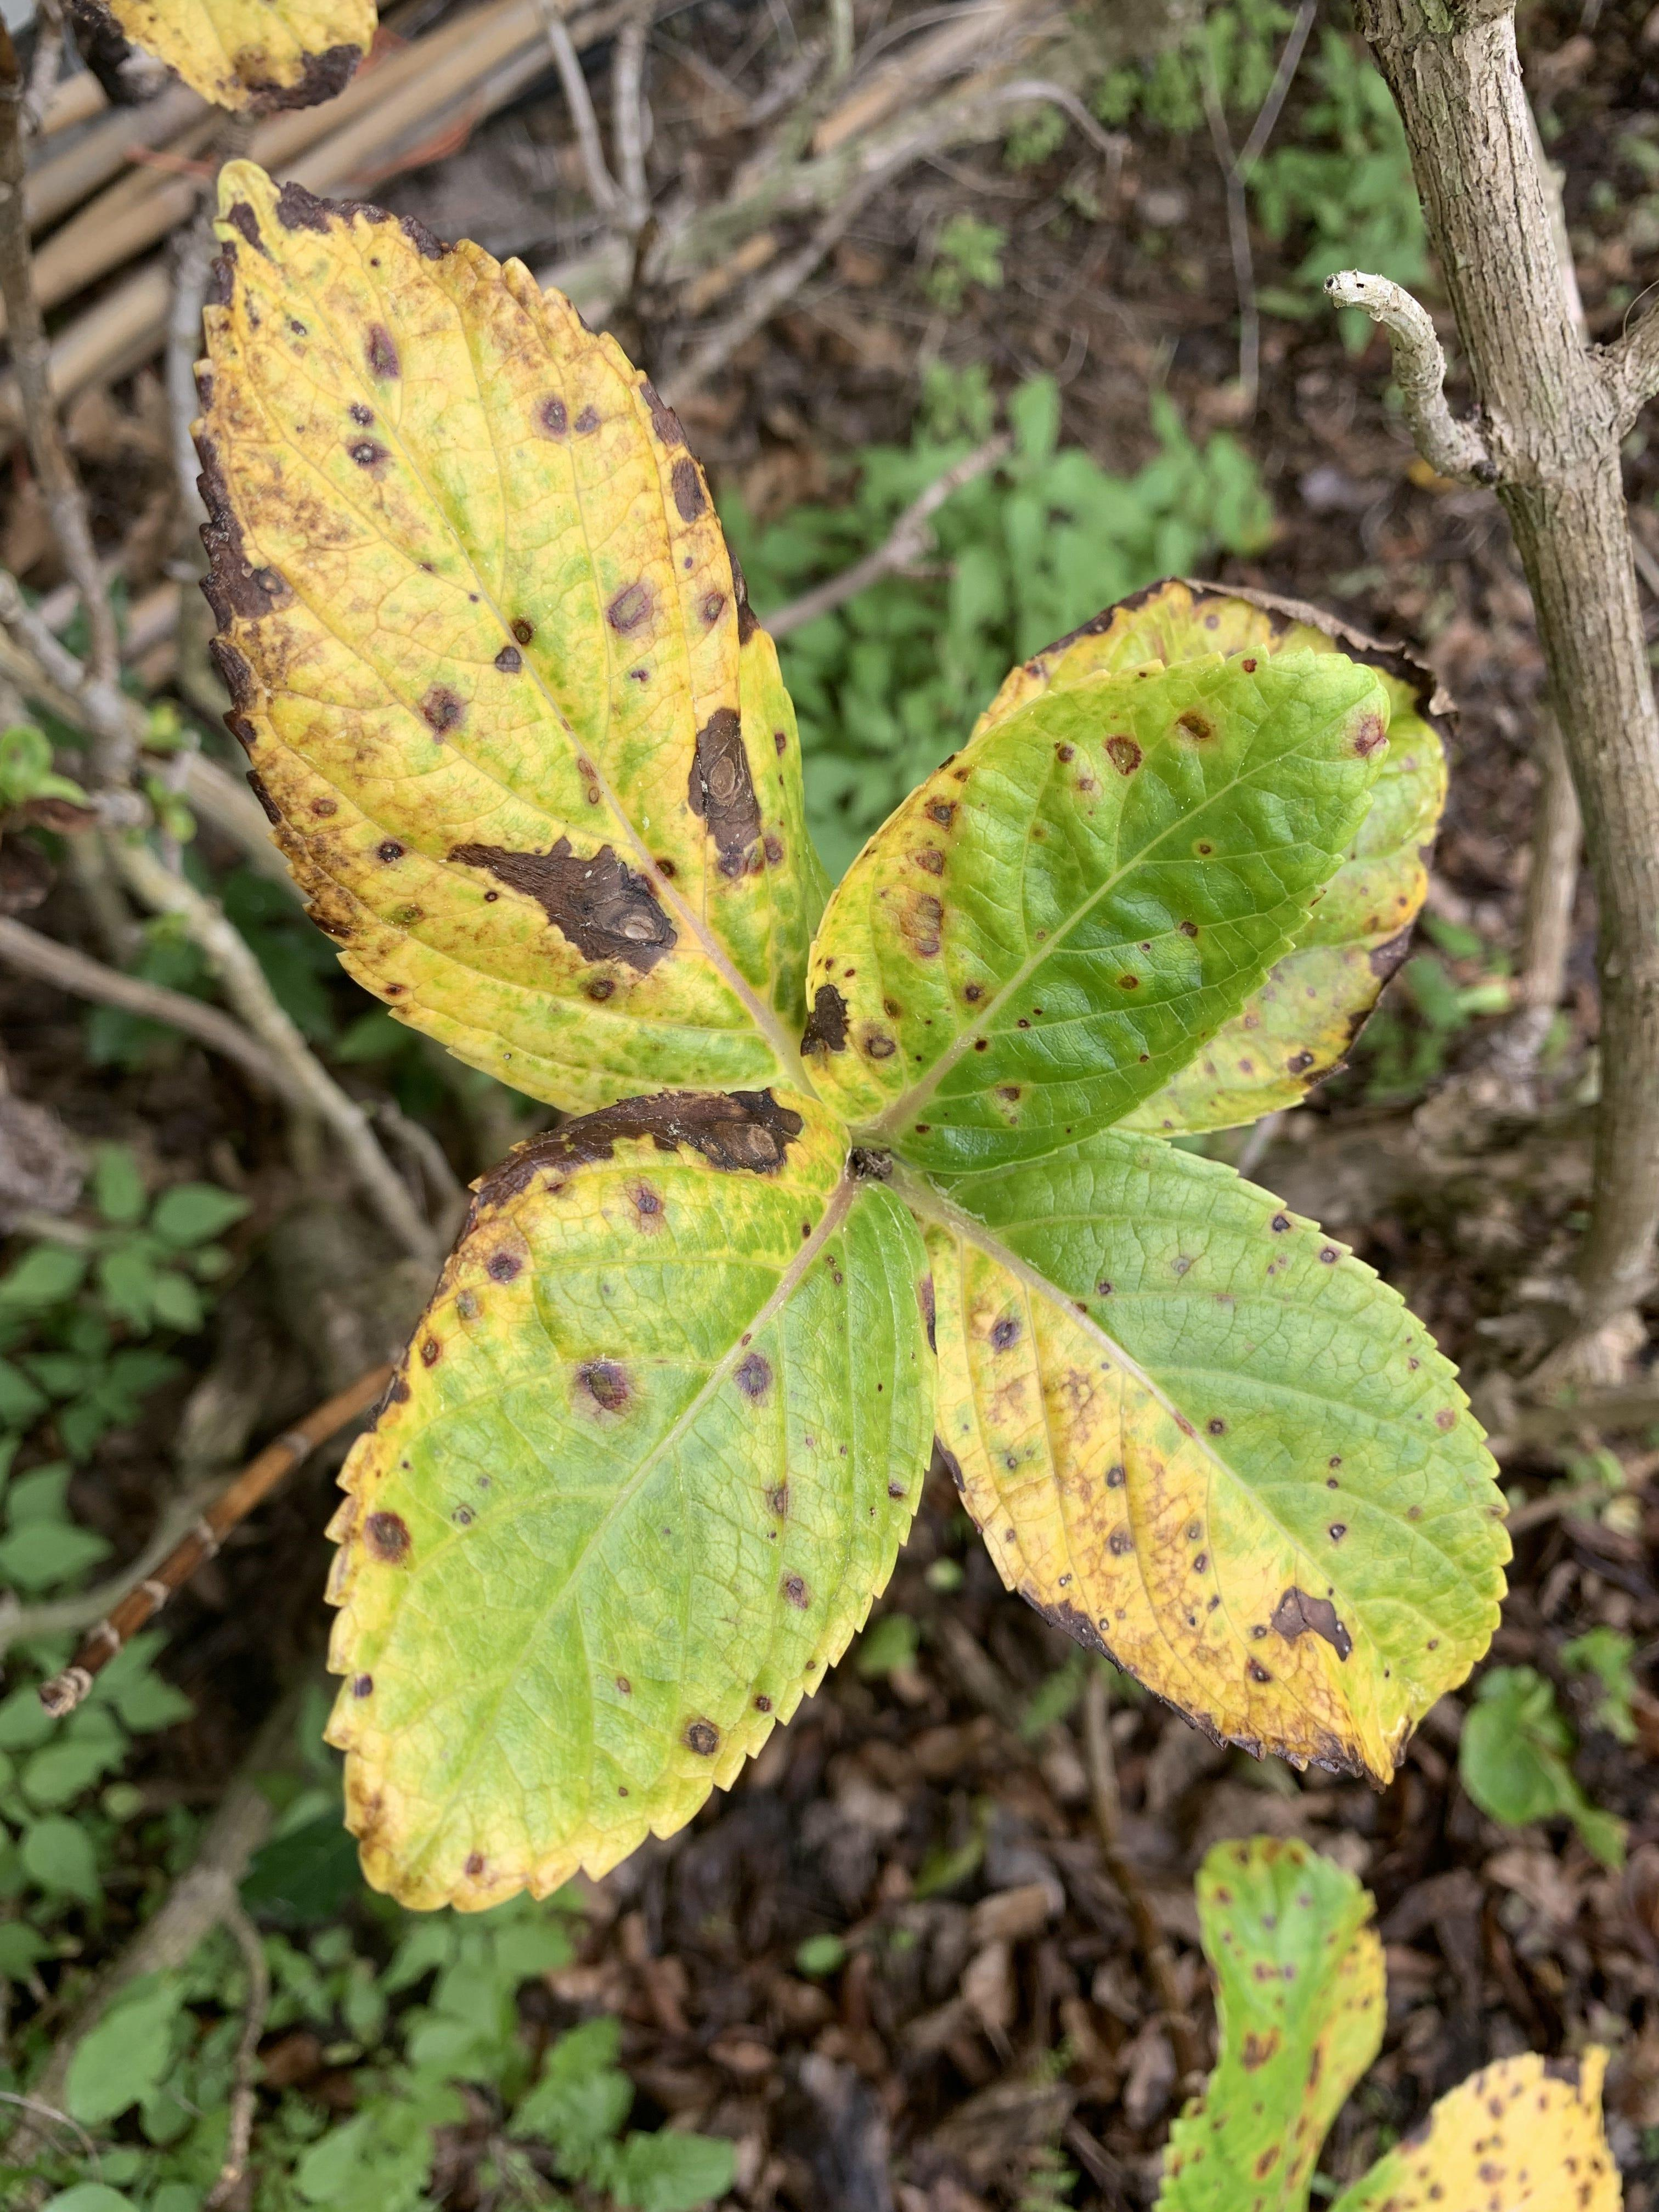black-spot: (525, 1268, 826, 1665)
